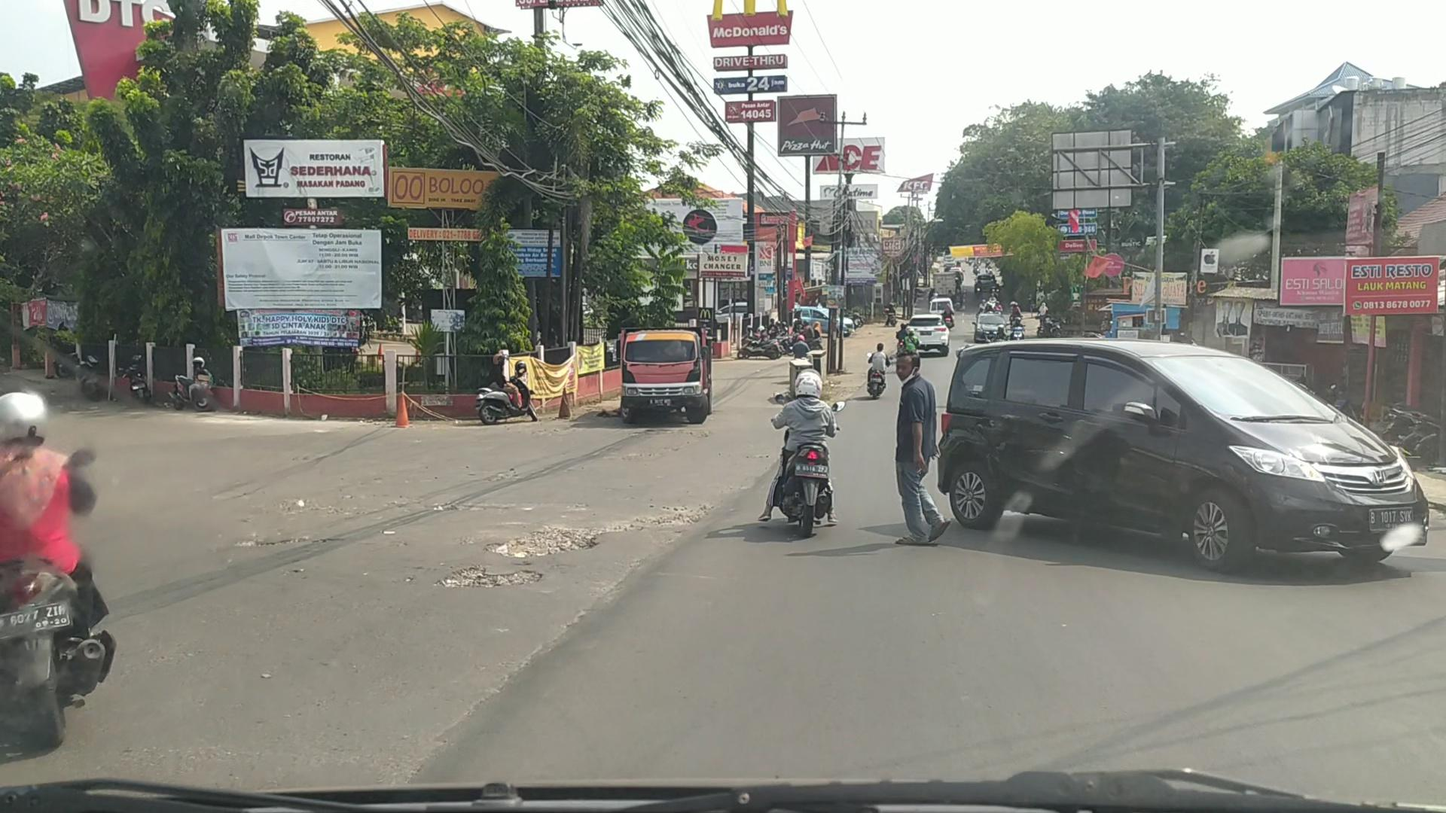pothole: (482, 507, 711, 558), (431, 563, 544, 590)
